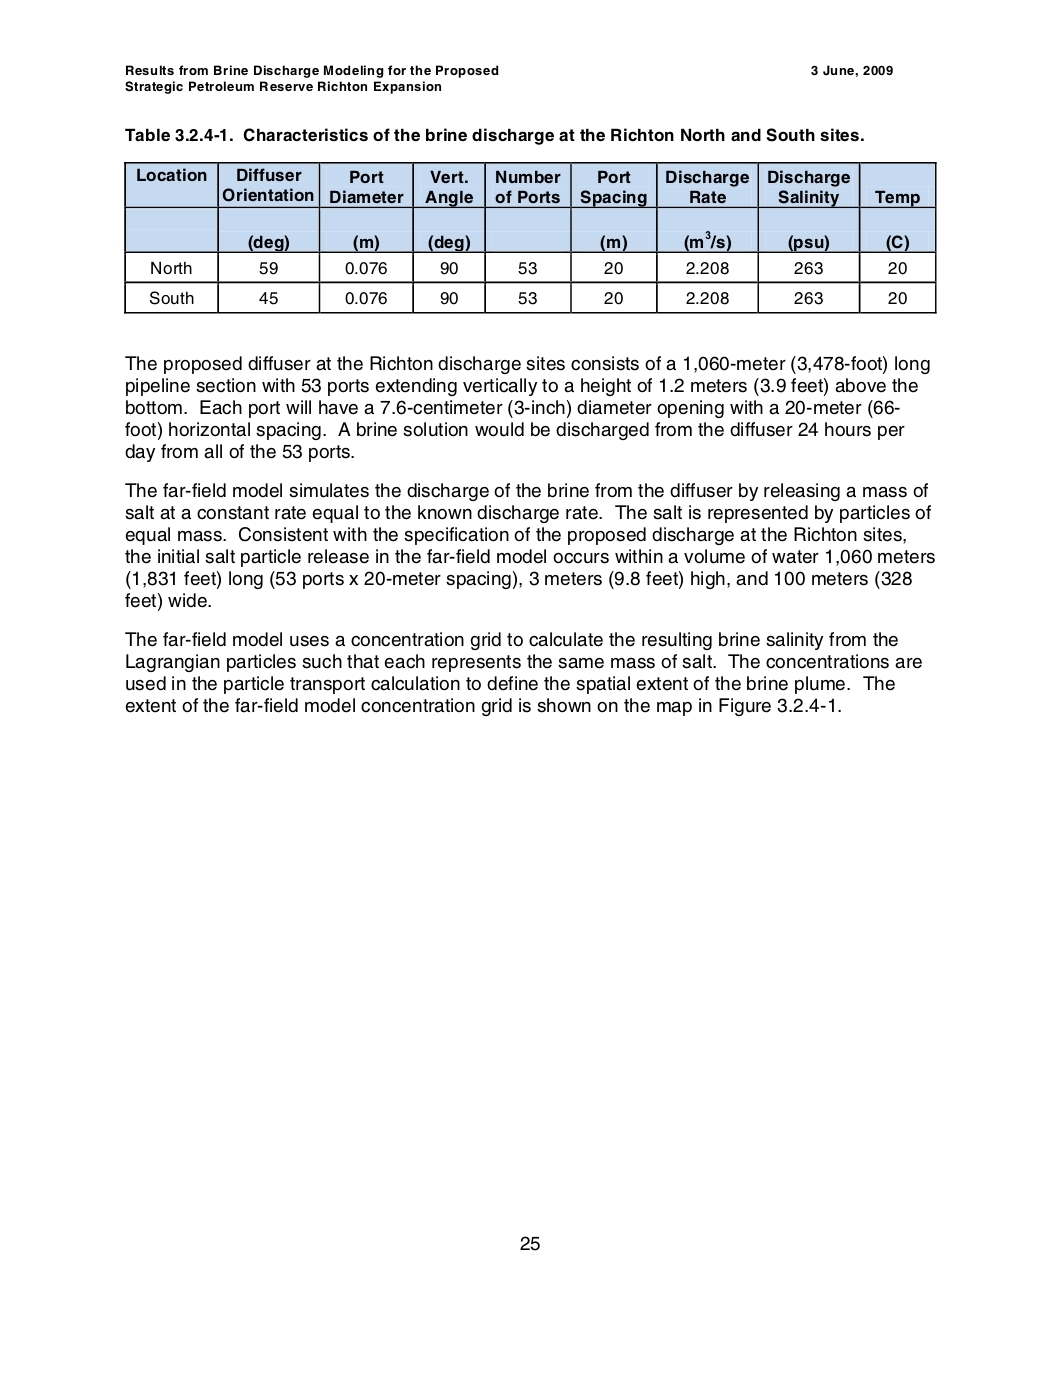Table: (124, 160, 936, 314)
